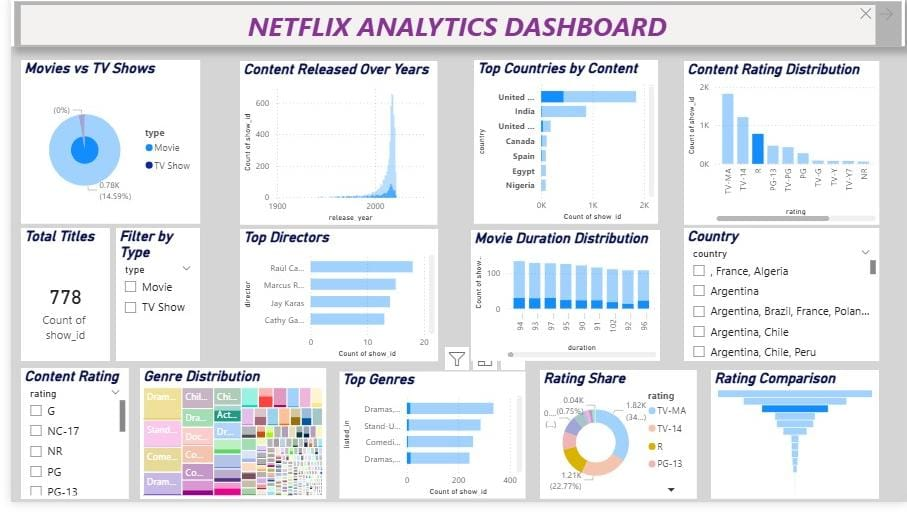

The dashboard page shown, as its layout file describes it:
{"tool":"powerbi","page":{"name":"Netflix_Dashboard","canvas":[1280,720],"ordinal":0},"visuals":[{"type":"pieChart","fields":{"Category":["netflix_titles.type"],"Y":["CountNonNull(netflix_titles.show_id)"]},"box":[12.1,93.5,256.3,233.8],"z":0},{"type":"lineStackedColumnComboChart","fields":{"Category":["netflix_titles.release_year"],"Y":["CountNonNull(netflix_titles.show_id)"]},"box":[327.4,90.1,282.3,233.8],"z":1000},{"type":"barChart","fields":{"Category":["netflix_titles.country"],"Y":["CountNonNull(netflix_titles.show_id)"]},"box":[637.4,90.1,263.3,233.8],"z":2000},{"type":"clusteredColumnChart","fields":{"Category":["netflix_titles.rating"],"Y":["CountNonNull(netflix_titles.show_id)"]},"box":[961.3,90.1,278.9,233.8],"z":3000},{"type":"barChart","fields":{"Category":["netflix_titles.listed_in"],"Y":["CountNonNull(netflix_titles.show_id)"]},"box":[202.7,323.9,266.7,204.4],"z":4000},{"type":"columnChart","fields":{"Category":["netflix_titles.duration"],"Y":["CountNonNull(netflix_titles.show_id)"]},"box":[502.3,327.4,270.2,204.4],"z":5000},{"type":"card","fields":{"Values":["CountNonNull(netflix_titles.show_id)"]},"box":[0,336,202.7,142],"z":6000},{"type":"slicer","fields":{"Values":["netflix_titles.type"]},"box":[772.5,365.5,206.1,126.4],"z":7000},{"type":"slicer","fields":{"Values":["netflix_titles.country"]},"box":[900.7,327.4,375.9,192.3],"z":8000},{"type":"slicer","fields":{"Values":["netflix_titles.rating"]},"box":[0,490.2,202.7,230.4],"z":9000},{"type":"textSlicer","box":[336,0,659.9,76.2],"z":10000},{"type":"clusteredBarChart","fields":{"Category":["netflix_titles.director"],"Y":["CountNonNull(netflix_titles.show_id)"]},"box":[469.4,531.7,266.7,188.8],"z":11000},{"type":"treemap","fields":{"Group":["netflix_titles.listed_in"],"Values":["CountNonNull(netflix_titles.show_id)"]},"box":[168,528.3,266.7,192.3],"z":12000},{"type":"donutChart","fields":{"Category":["netflix_titles.rating"],"Y":["CountNonNull(netflix_titles.show_id)"]},"box":[755.2,531.7,225.2,188.8],"z":13000},{"type":"funnel","fields":{"Category":["netflix_titles.rating"],"Y":["CountNonNull(netflix_titles.show_id)"]},"box":[980,532,297,188],"z":13001}]}

Visuals, with their boxes in screenshot pixels (x1, y1, x2, y2), scaled from the page's 1280x720 canvas onto the 907x515 screenshot:
pieChart - netflix_titles.type x CountNonNull(netflix_titles.show_id): bbox(9, 67, 190, 234)
lineStackedColumnComboChart - netflix_titles.release_year x CountNonNull(netflix_titles.show_id): bbox(232, 64, 432, 232)
barChart - netflix_titles.country x CountNonNull(netflix_titles.show_id): bbox(452, 64, 638, 232)
clusteredColumnChart - netflix_titles.rating x CountNonNull(netflix_titles.show_id): bbox(681, 64, 879, 232)
barChart - netflix_titles.listed_in x CountNonNull(netflix_titles.show_id): bbox(144, 232, 333, 378)
columnChart - netflix_titles.duration x CountNonNull(netflix_titles.show_id): bbox(356, 234, 547, 380)
card - CountNonNull(netflix_titles.show_id): bbox(0, 240, 144, 342)
slicer - netflix_titles.type: bbox(547, 261, 693, 352)
slicer - netflix_titles.country: bbox(638, 234, 905, 372)
slicer - netflix_titles.rating: bbox(0, 351, 144, 514)
textSlicer: bbox(238, 0, 706, 55)
clusteredBarChart - netflix_titles.director x CountNonNull(netflix_titles.show_id): bbox(333, 380, 522, 514)
treemap - netflix_titles.listed_in x CountNonNull(netflix_titles.show_id): bbox(119, 378, 308, 514)
donutChart - netflix_titles.rating x CountNonNull(netflix_titles.show_id): bbox(535, 380, 695, 514)
funnel - netflix_titles.rating x CountNonNull(netflix_titles.show_id): bbox(694, 381, 905, 514)
